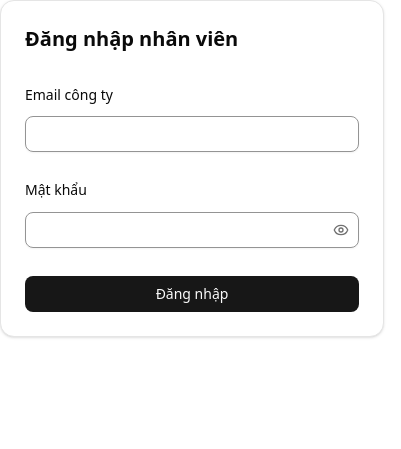
Test: answers of Firebase › auth/too-many-requests shows its message
This screenshot has width=401, height=449.
expect the button "Đăng nhập" is enabled: met, box [25,276,359,312]
Type "nhanvien@zengear.test" into the field labelled "Email công ty" at (192,134), box [25,116,359,152]
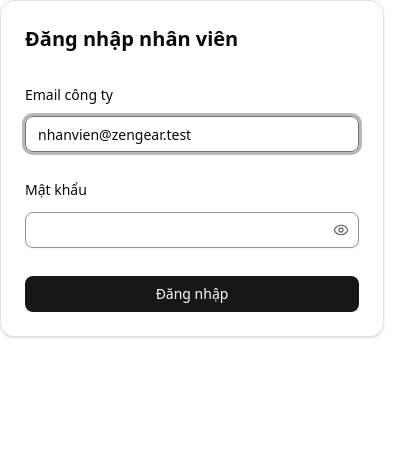
Type "mat-khau-cua-toi" into the password field labelled "Mật khẩu" at (178,230), box [26,212,329,248]
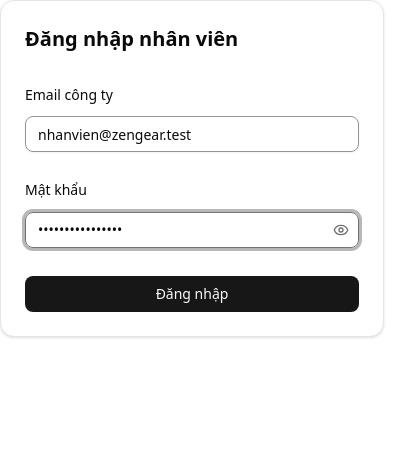
Click the button "Đăng nhập" at (192,294), box [25,276,359,312]
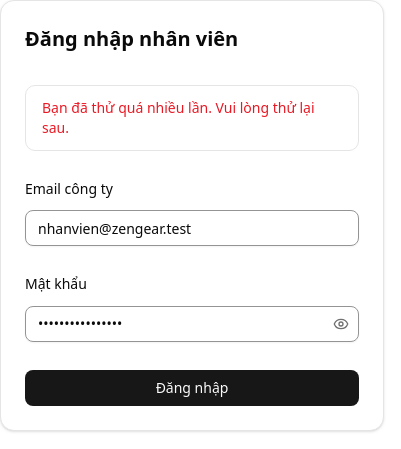
expect the message reads "Bạn đã thử quá nhiều lần. Vui lòng thử lại sau.": met, box [42,98,314,137]
